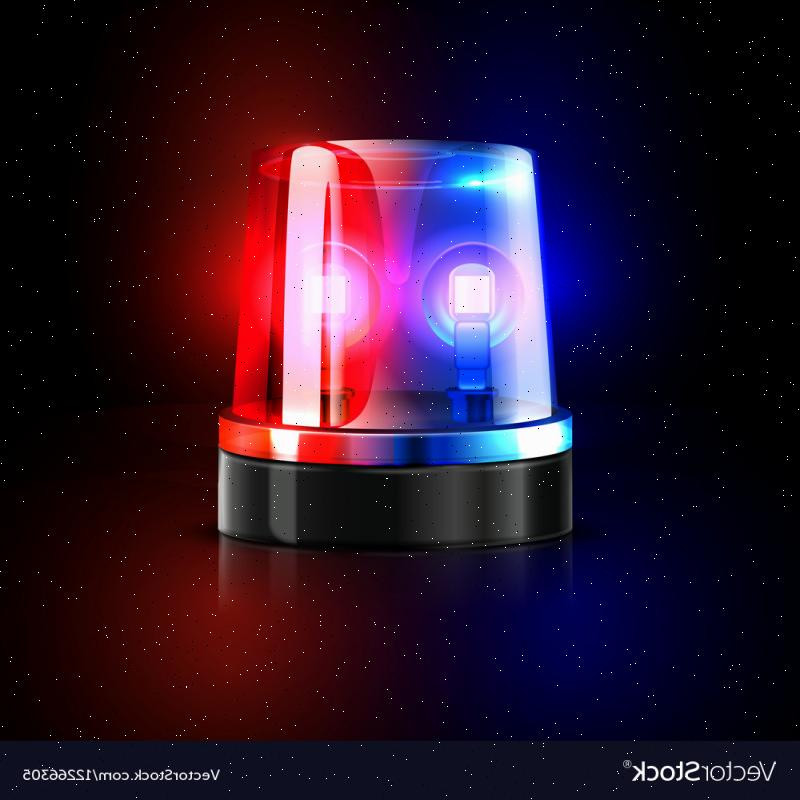AmbulanceSiren: (223, 132, 580, 562)
